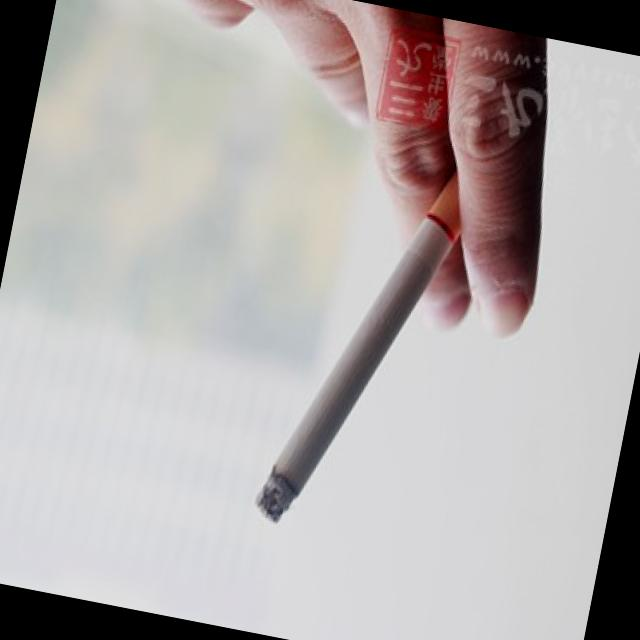cigarette: (248, 126, 500, 552)
